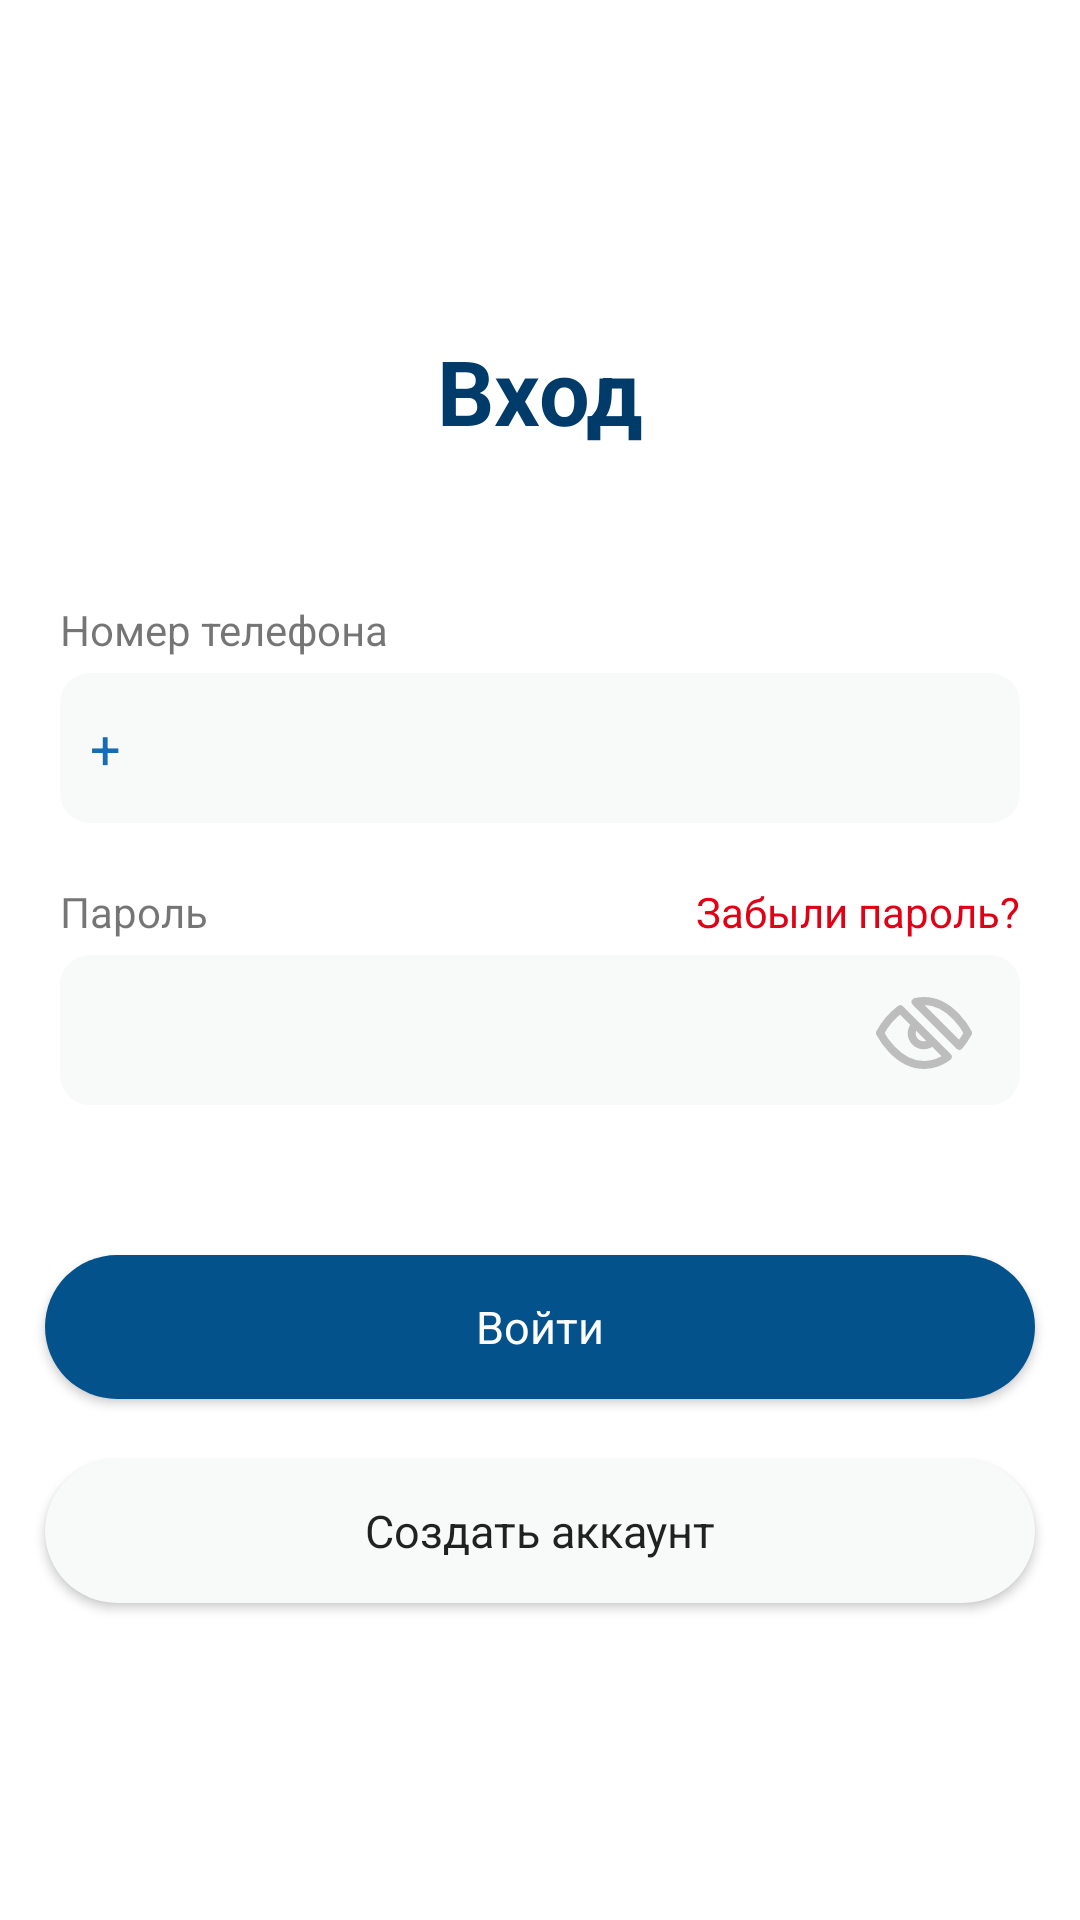

Where icons sit on this 1080 × 1920 app screen, as (x1, y1, x2, y2):
show hide: (876, 997, 972, 1069)
